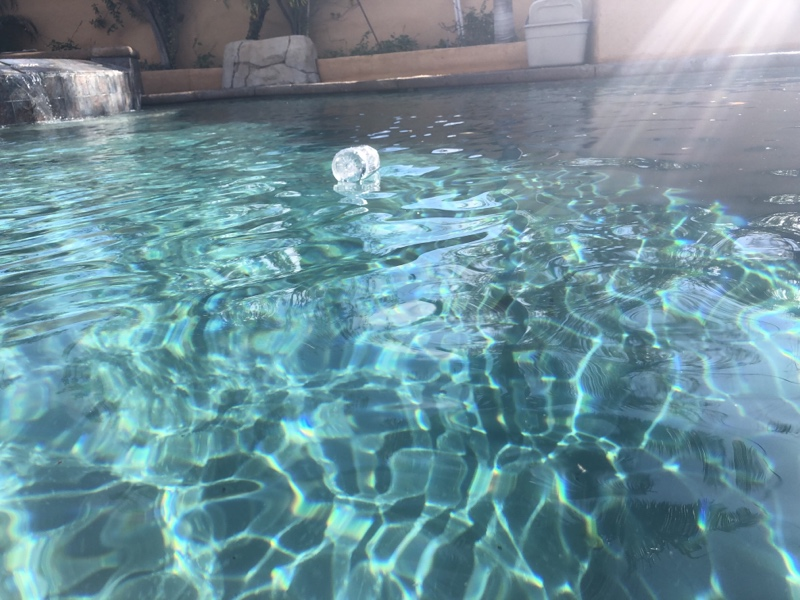Plastic Bottle: (328, 141, 385, 189)
